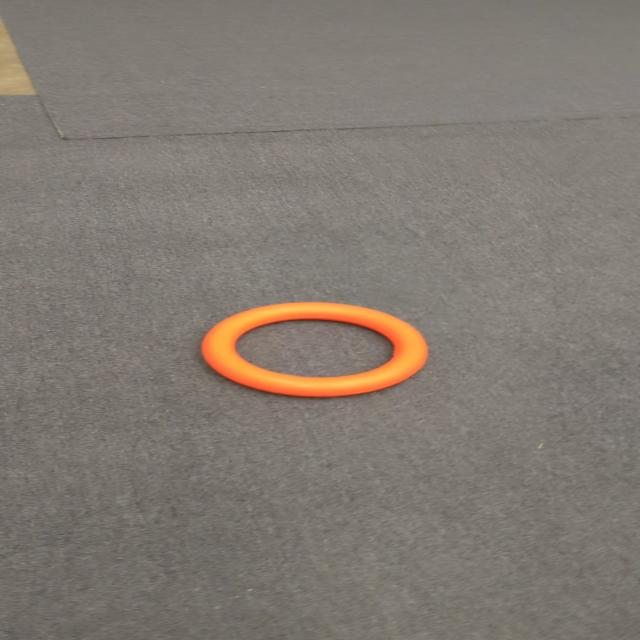note: (198, 306, 426, 398)
